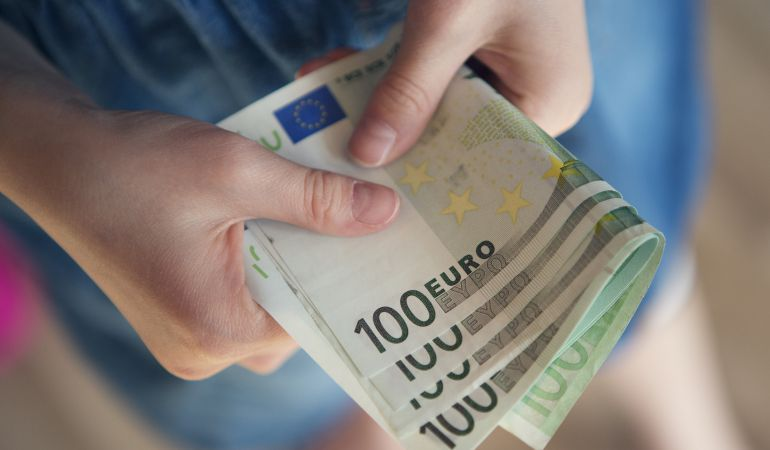billete: (202, 15, 671, 450)
